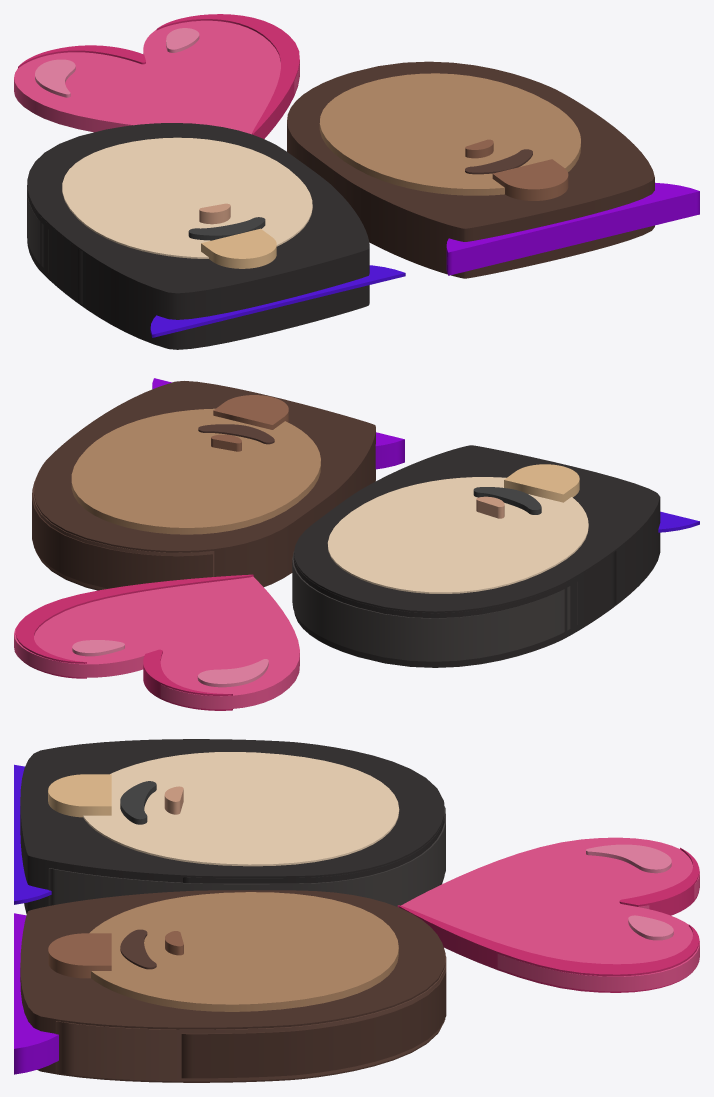
File: emoji_u1f469_1f3fb_200d_2764_200d_1f469_1f3fd.glb
3 views of the same model, one above another, from view 1: azimuth 30°, elevation 25°; view 2: azimuth 150°, elevation 25°; view 3: azimuth 270°, elevation 25° (orthographic). The views are drawn at different scales.
Visible parts, largest first — view 1: emoji_u1f469_1f3fb_200d_2764_200d_1f469_1f3fd; view 2: emoji_u1f469_1f3fb_200d_2764_200d_1f469_1f3fd; view 3: emoji_u1f469_1f3fb_200d_2764_200d_1f469_1f3fd.
Part boxes in pixels (x1,y1,x2,y2): emoji_u1f469_1f3fb_200d_2764_200d_1f469_1f3fd: [14, 14, 699, 349]; emoji_u1f469_1f3fb_200d_2764_200d_1f469_1f3fd: [14, 378, 699, 710]; emoji_u1f469_1f3fb_200d_2764_200d_1f469_1f3fd: [14, 739, 699, 1082].
Size of the model in its own units: 0.0345 by 0.005 by 0.0338.
